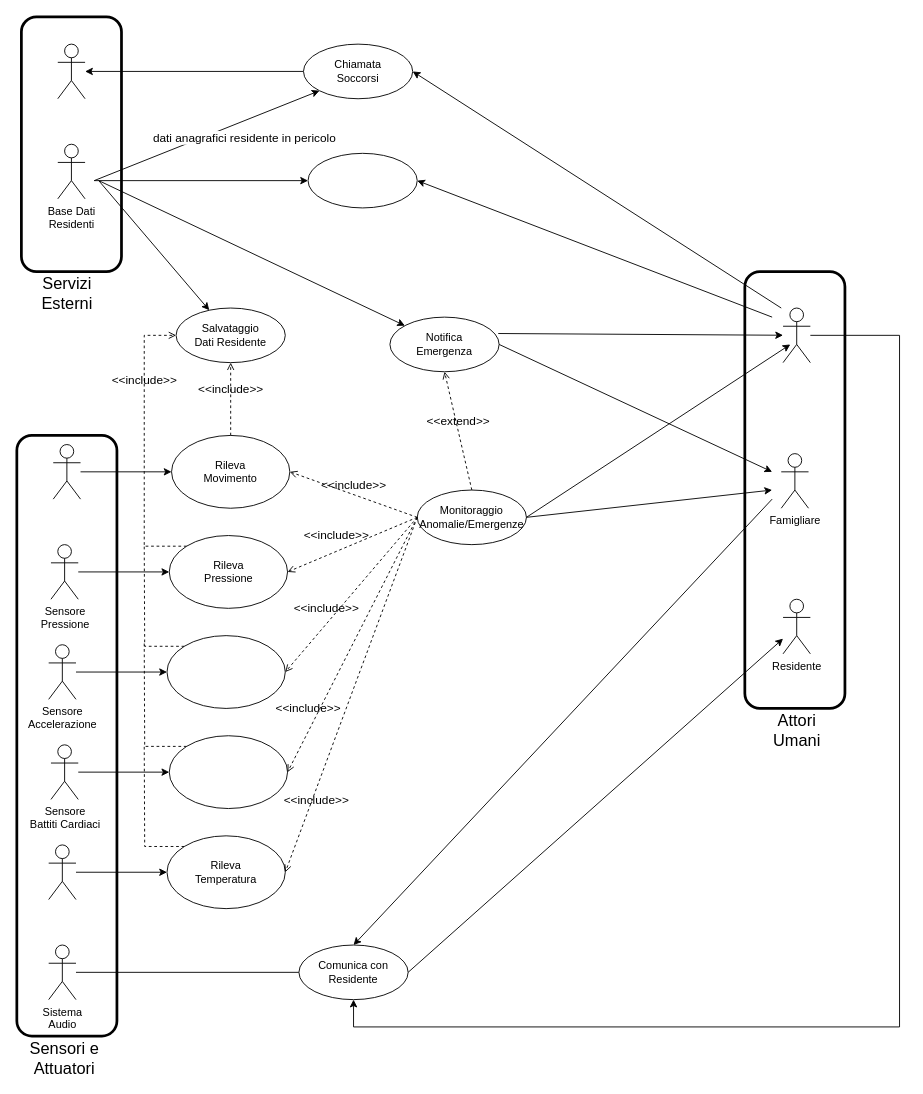
Some shapes in this 923 by 1094 pixel diagram are drawn without their labels. Here are the shapes that lost their labels. From the top down, the box of each, then its label:
(57, 43, 85, 99): Servizio Pronto Soccorso
(307, 152, 417, 208): Controllo Storico
(782, 307, 810, 363): Operatore Sanitario
(52, 444, 81, 499): Sensore Movimento
(166, 635, 285, 708): Rileva Accelerazione
(168, 735, 288, 809): Rileva Battiti Cardiaci
(48, 844, 76, 900): Sensore Temperatura
